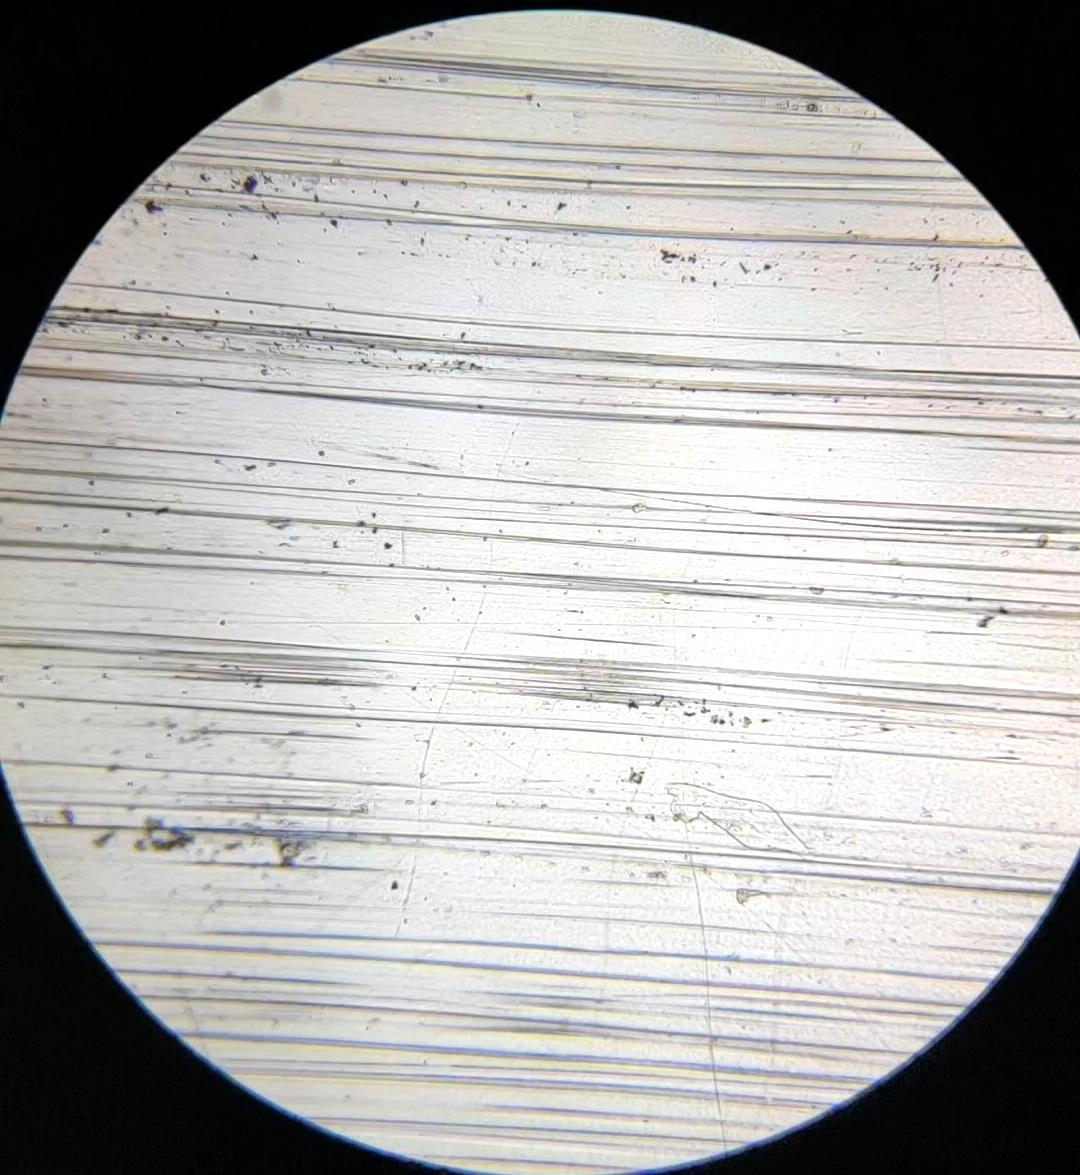Do: (666, 783, 814, 855)
